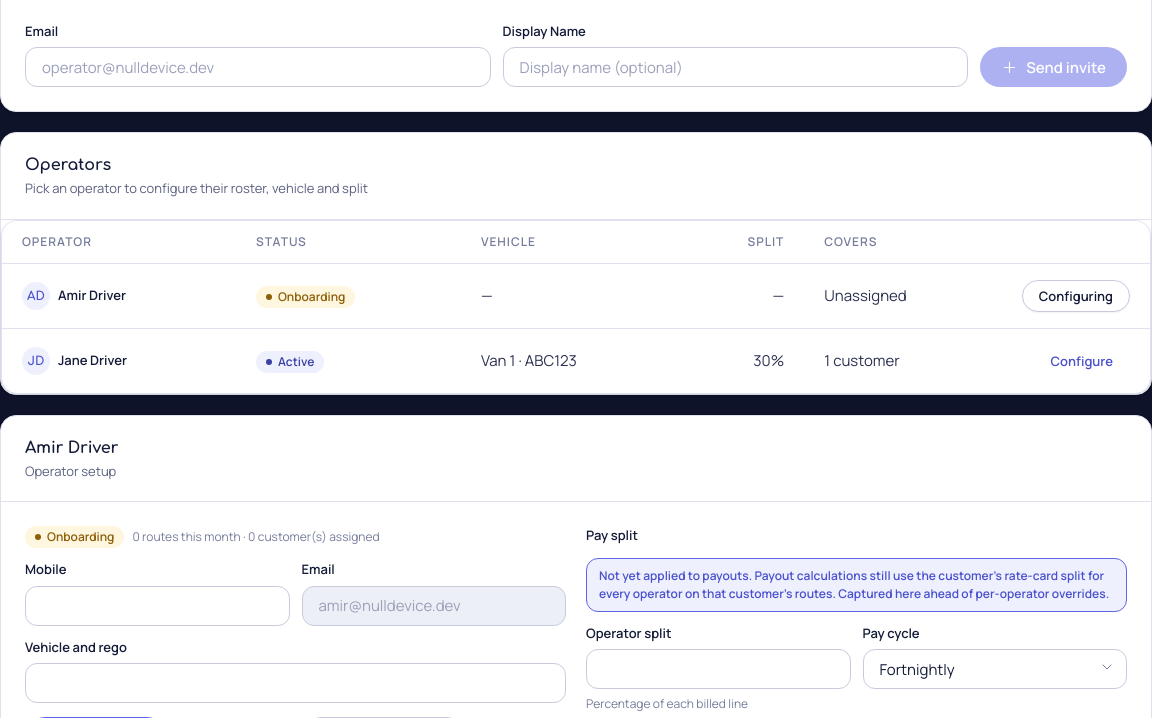
Test: Administrator Operators page › saves the mobile +61 412 345 678 in international form and shows it in local form
(page scrolled)
Expected: the text "Van 1 · ABC123" is shown, [461,329,680,393]
Click the button with aria-label "Configure Jane Driver".
click(1082, 361)  # box [1034,345,1130,377]
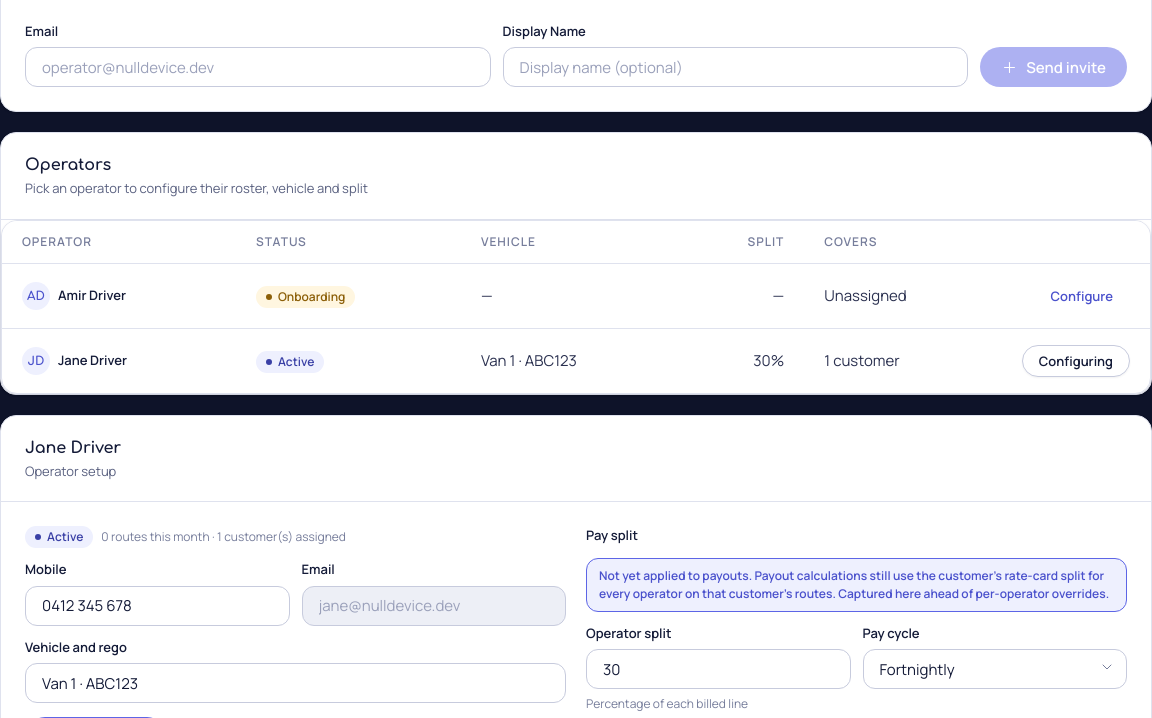
Replace the text in the field labelled "Mobile" with "+61 412 345 678" at coordinates (157, 606), box [25,586,290,626]
(page scrolled)
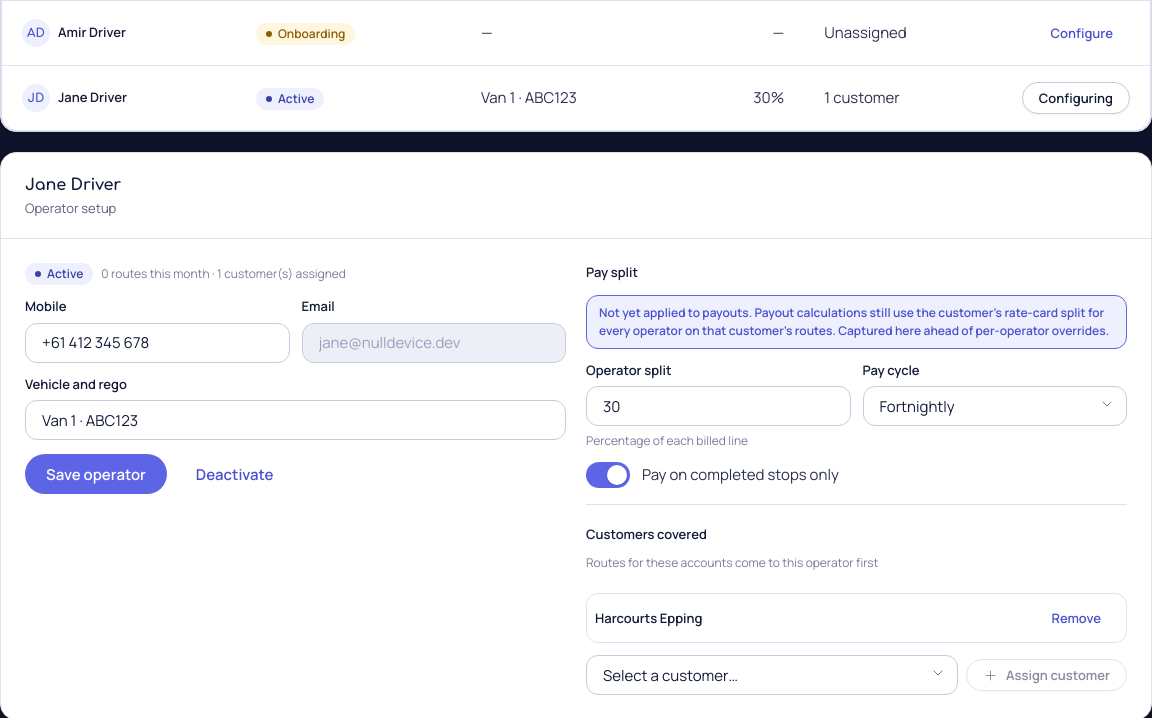
Click the button "Save operator".
click(96, 474)  # box [25,454,167,494]
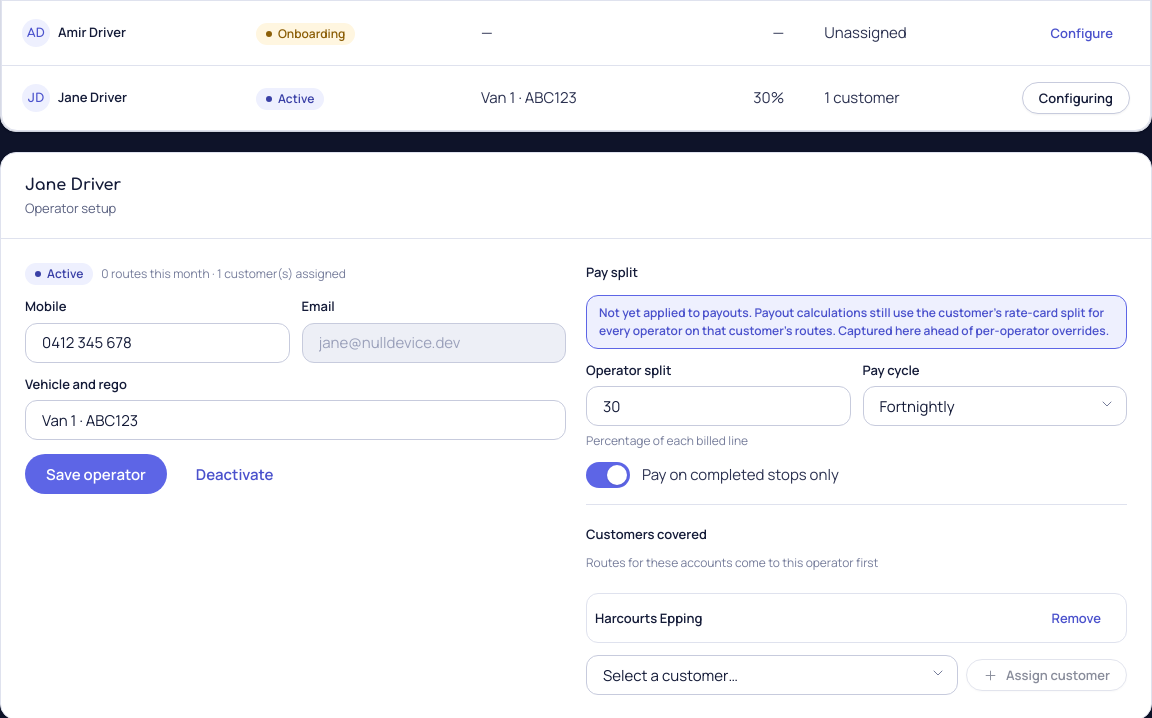
Result: the field labelled "Mobile" holds "0412 345 678" at [25,323,290,363]
